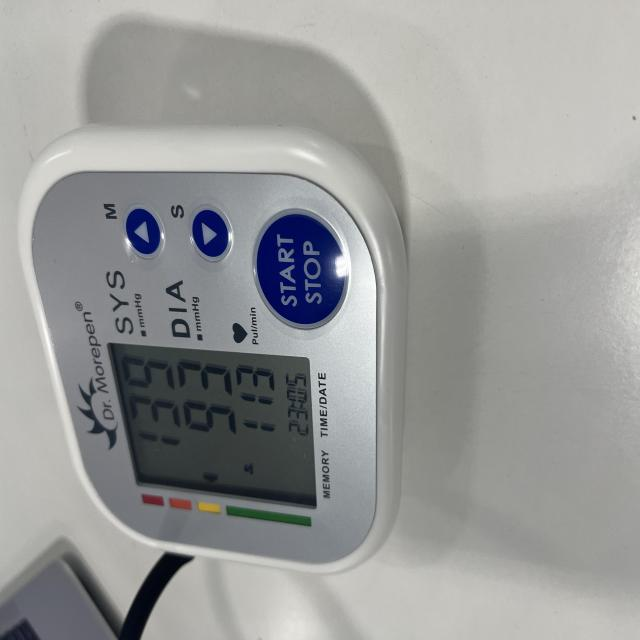bp: (16, 122, 410, 578)
